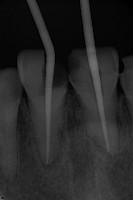Furcation Involvement: (40, 129, 65, 169)
